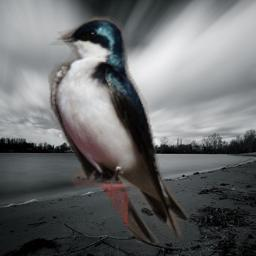Swallow: (48, 16, 189, 243)
